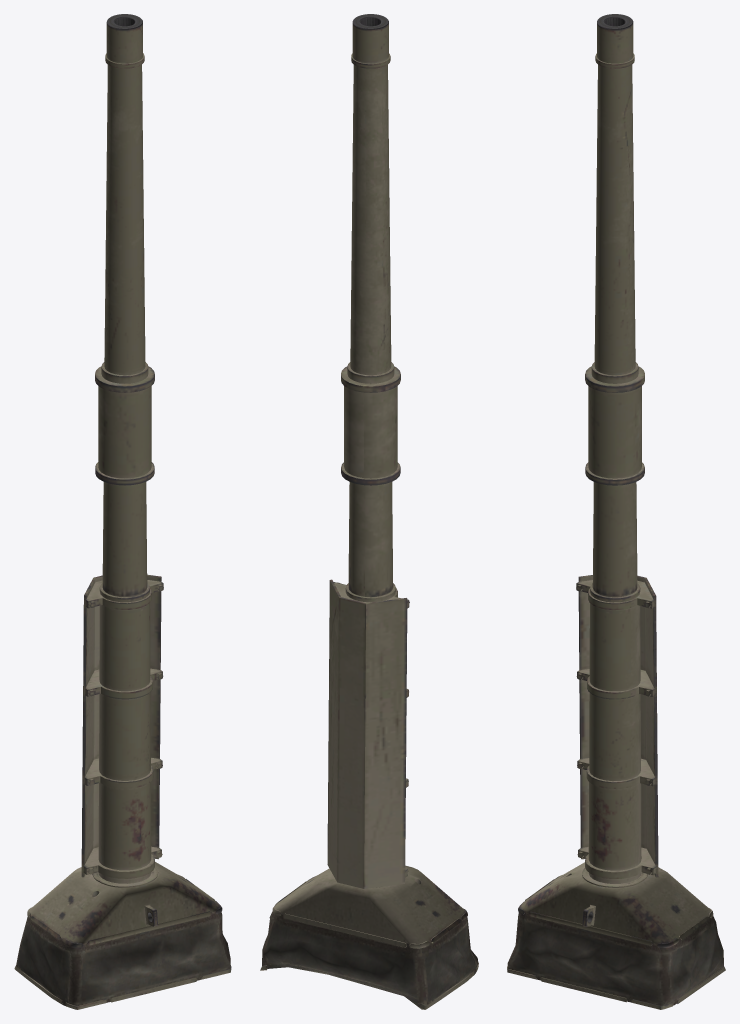
File: Gun_06.glb
The picture shows the model from 3 angles, left to right: view 1: azimuth 30°, elevation 25°; view 2: azimuth 150°, elevation 25°; view 3: azimuth 330°, elevation 25°; orthographic projection.
Visible parts, largest first — view 1: set_0_group_0; view 2: set_0_group_0; view 3: set_0_group_0.
Boxes of the visible parts, bbox=[...] form: set_0_group_0: bbox=[14, 14, 231, 1009]; set_0_group_0: bbox=[260, 14, 478, 1009]; set_0_group_0: bbox=[507, 14, 725, 1009].
Bounding box in the file's own units: 1.15 × 6.02 × 0.7526.
Materials: 1 (1 with a texture image).
